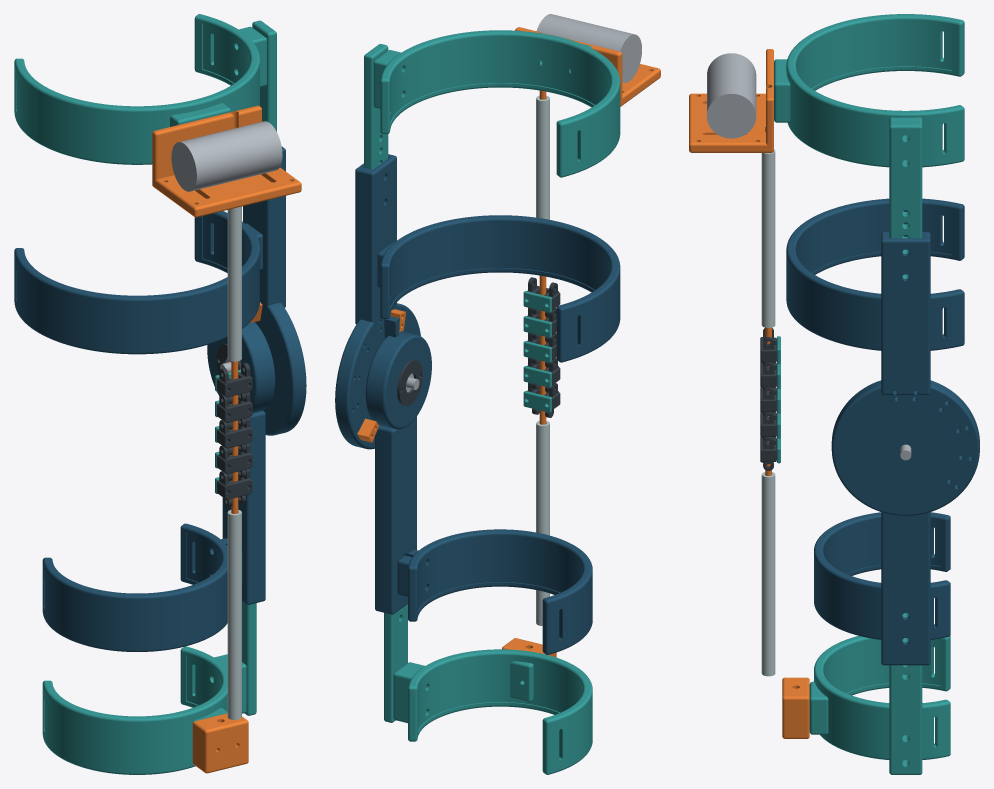
Rendered from Orthosis_V01_assembly.glb.
The picture shows the model from 3 angles, left to right: view 1: azimuth 30°, elevation 25°; view 2: azimuth 150°, elevation 25°; view 3: azimuth 270°, elevation 25°; orthographic projection. The views are drawn at different scales.
Parts seen in each view (by area): view 1: A01, A02, A05, A06, A07, R05, A16, A11, A15, A04, A03, A13_1 (+5 smaller); view 2: A01, A02, A05, A06, R05, A03, A04, A16, A15, A07, A10_inner, R06; view 3: A01, A05, A02, A06, A03, R05, A04, A07, A16, A15, A11, A13_5.
Part boxes in pixels (x1,y1,x2,y2): A01: [14, 146, 306, 435]; A02: [42, 321, 275, 651]; A05: [14, 14, 266, 164]; A06: [42, 646, 246, 774]; A07: [152, 105, 301, 217]; R05: [171, 121, 282, 191]; A16: [227, 509, 241, 719]; A11: [192, 713, 248, 773]; A15: [227, 206, 241, 361]; A04: [242, 601, 256, 715]; A03: [252, 20, 276, 131]; A13_1: [217, 363, 252, 404]; A01: [335, 154, 620, 449]; A02: [365, 316, 592, 654]; A05: [373, 30, 620, 177]; A06: [393, 649, 592, 774]; R05: [536, 14, 641, 82]; A03: [364, 44, 388, 169]; A04: [384, 604, 407, 722]; A16: [536, 420, 549, 625]; A15: [536, 95, 549, 275]; A07: [515, 27, 660, 106]; A10_inner: [397, 359, 422, 406]; R06: [539, 90, 546, 424]; A01: [786, 198, 979, 515]; A05: [774, 14, 964, 167]; A02: [814, 512, 950, 665]; A06: [809, 636, 950, 762]; A03: [889, 122, 922, 278]; R05: [707, 53, 756, 138]; A04: [889, 613, 922, 774]; A07: [689, 49, 773, 152]; A16: [761, 472, 775, 676]; A15: [761, 149, 775, 327]; A11: [782, 677, 809, 738]; A13_5: [760, 437, 776, 470].
Size of the model in its own units: 205 by 530 by 212.
